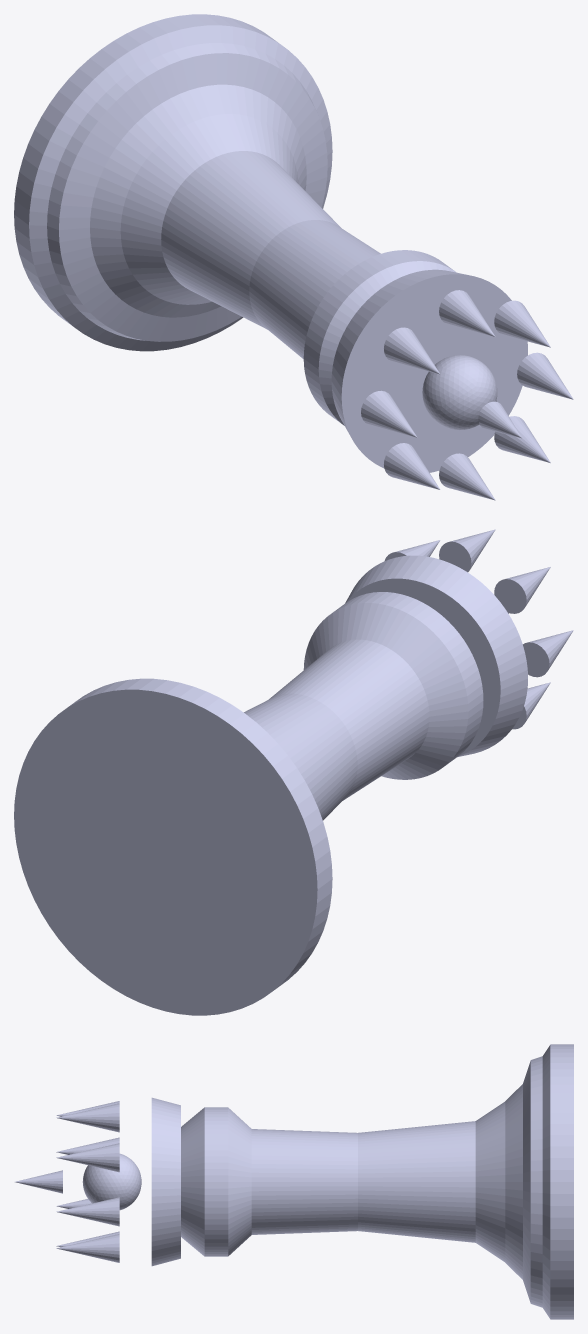
File: senapati_chandra.glb
3 renders of one model, top to bottom at view 1: azimuth 30°, elevation 25°; view 2: azimuth 150°, elevation 25°; view 3: azimuth 270°, elevation 25°, orthographic. The views are drawn at different scales.
Parts seen in each view (by area): view 1: geometry_0; view 2: geometry_0; view 3: geometry_0.
Boxes of the visible parts, left/top/right/bottom form: geometry_0: left=14, top=14, right=573, bottom=500; geometry_0: left=14, top=529, right=573, bottom=1015; geometry_0: left=15, top=1044, right=573, bottom=1319.
Bounding box in the file's own units: 0.028 × 0.028 × 0.057.
